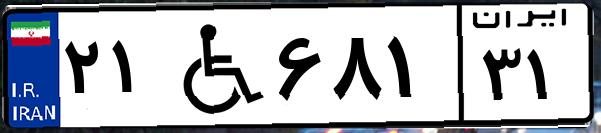1: (385, 28, 445, 110), (525, 38, 570, 115), (110, 28, 158, 98)
2: (57, 26, 110, 100)
3: (475, 38, 525, 113)
6: (270, 28, 330, 110)
8: (330, 28, 385, 110)
ژ (معلولین و جانبازان): (158, 12, 270, 120)
